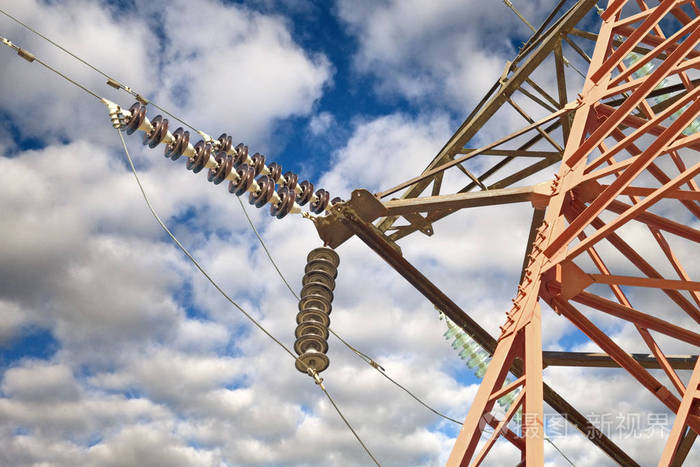insulator: (122, 100, 293, 217), (442, 324, 526, 424), (218, 135, 327, 211), (293, 247, 338, 374)
